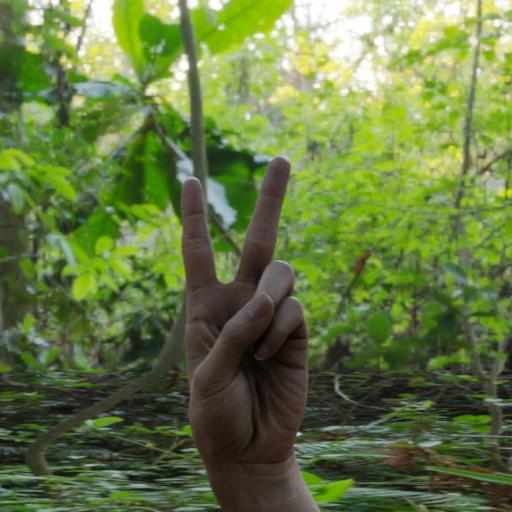V: (157, 139, 336, 487)
